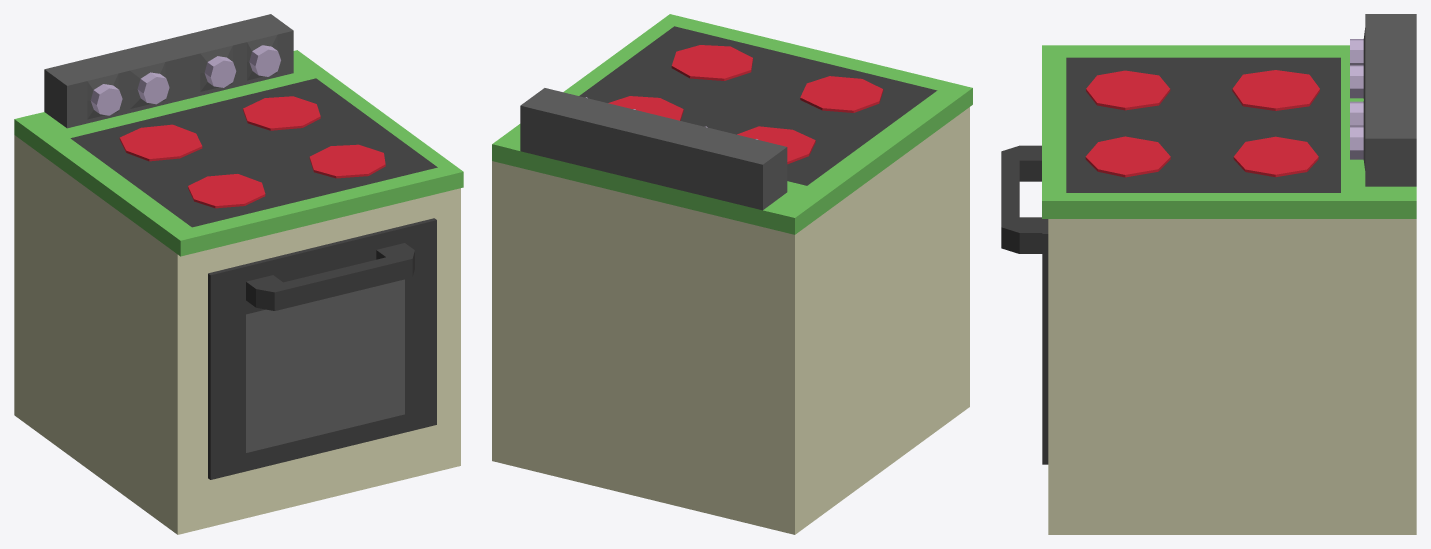
Rendered from Stove.fbx.
3 views of the same model, side by side, from view 1: azimuth 30°, elevation 25°; view 2: azimuth 150°, elevation 25°; view 3: azimuth 270°, elevation 25° (orthographic). The views are drawn at different scales.
Parts seen in each view (by area): view 1: pCube3; view 2: pCube3; view 3: pCube3.
Part boxes in pixels (left/top/right/bottom): pCube3: left=14, top=14, right=463, bottom=534; pCube3: left=492, top=14, right=972, bottom=534; pCube3: left=1001, top=14, right=1416, bottom=534.
Size of the model in its own units: 13.18 by 15.08 by 14.87.
